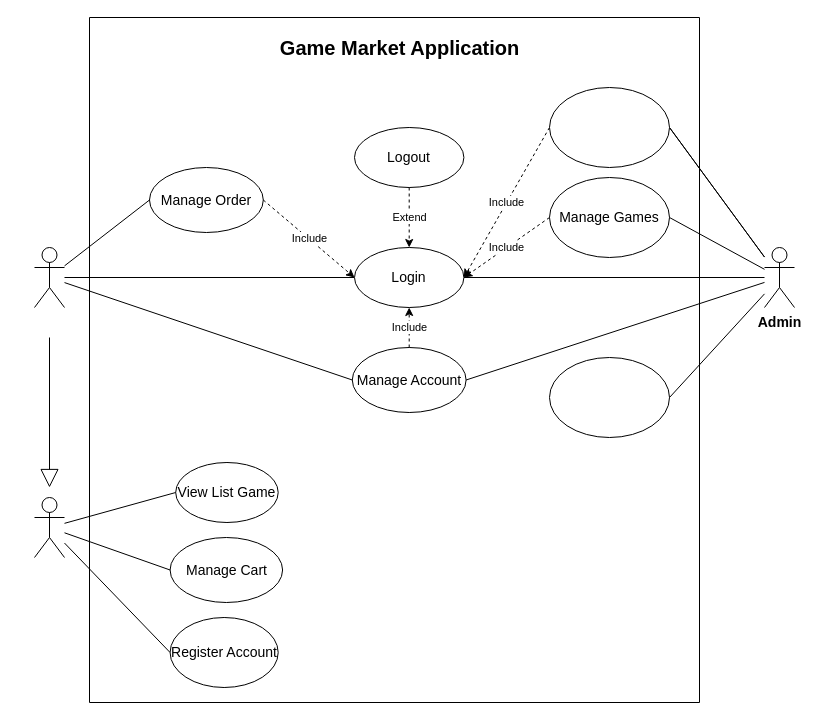
Image size: 819x720. Some labels were removed from this diagram. The shapes that lost their labels are listed below. From the top down, each one's centre as x and y in pixels, then its label:
At [609,127]: "Manage Customers".
At [49,277]: "Customer".
At [609,397]: "Revenue Overview".
At [49,527]: "Visitor".
